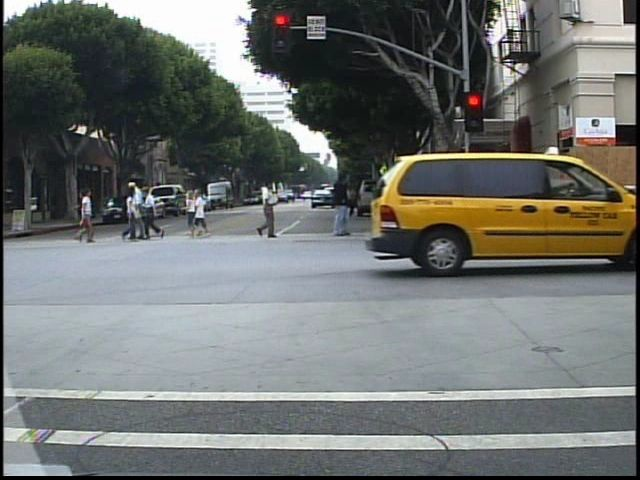person: (324, 166, 357, 238), (251, 181, 284, 241), (71, 187, 102, 247), (73, 186, 95, 242), (143, 184, 164, 241), (131, 176, 148, 244), (119, 187, 136, 245)
